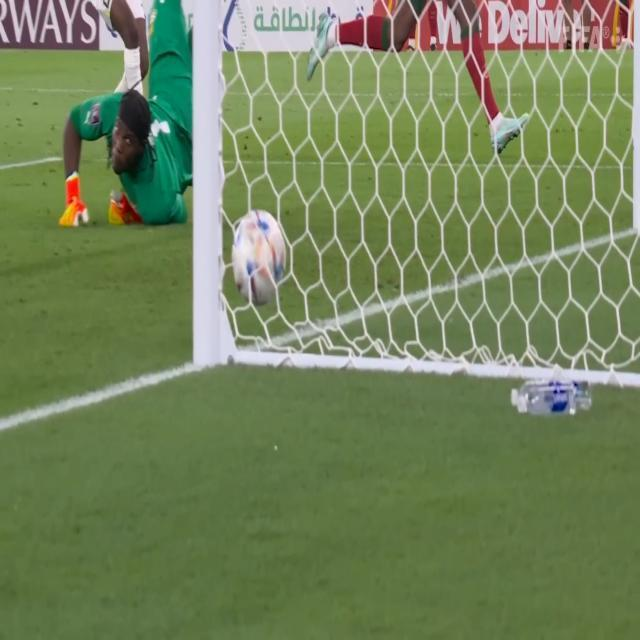football: (222, 209, 294, 312)
